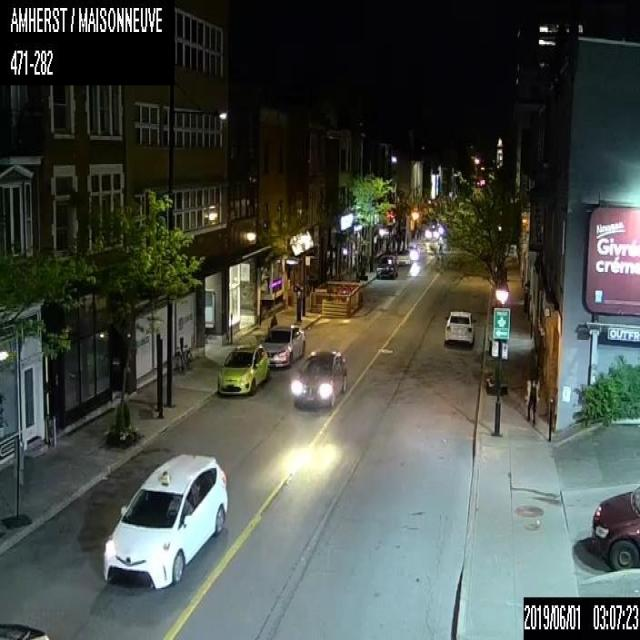pedestrian: (524, 372, 537, 425), (269, 312, 276, 327)
vehicle: (101, 452, 227, 590), (590, 484, 639, 572), (293, 347, 347, 407), (217, 342, 270, 394), (260, 324, 305, 368), (442, 307, 474, 349), (0, 621, 48, 639), (376, 254, 398, 278), (395, 249, 412, 265), (425, 226, 438, 240), (406, 244, 419, 258)
